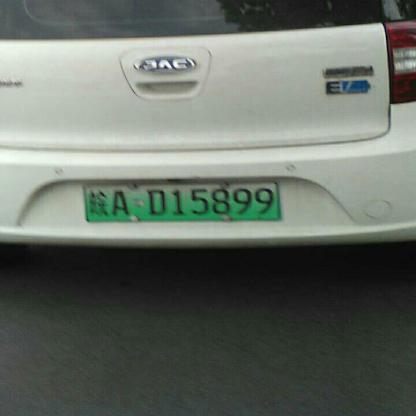lp: (84, 182, 279, 219)
